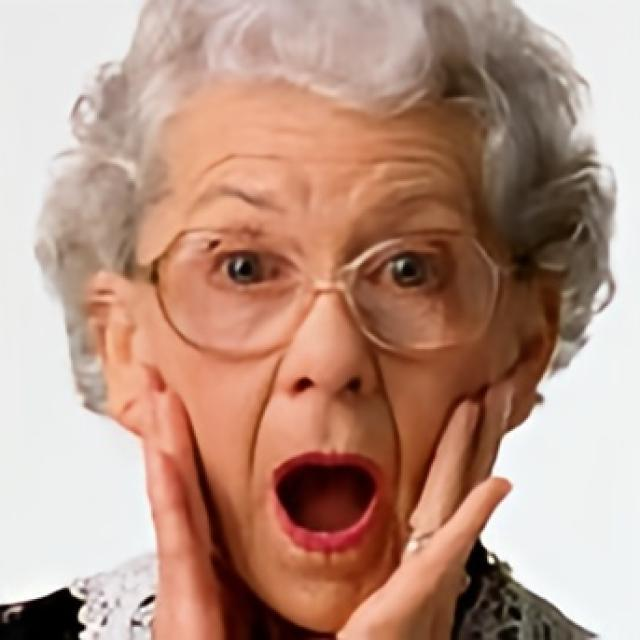surprise: (131, 49, 531, 634)
